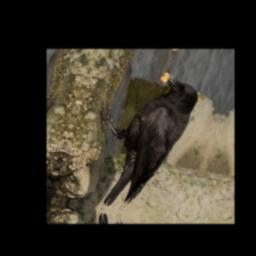Crow: (70, 64, 205, 216)
